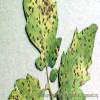Tomato leaf bacterial spot: (58, 22, 98, 99), (21, 1, 62, 73), (7, 72, 43, 100)
